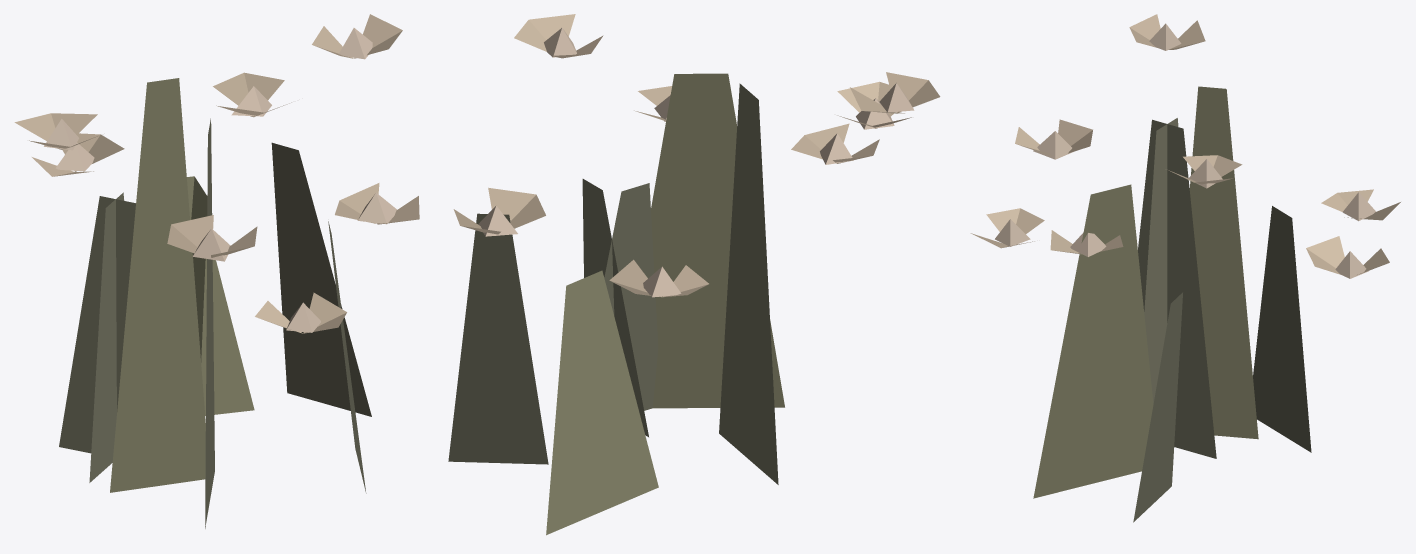
Rendered from cao.yangmao@flowering__winter.glb.
3 renders of one model, left to right at view 1: azimuth 30°, elevation 25°; view 2: azimuth 150°, elevation 25°; view 3: azimuth 270°, elevation 25°, orthographic. The views are drawn at different scales.
Parts seen in each view (by area): view 1: cao.yangmao@flowering__winter; view 2: cao.yangmao@flowering__winter; view 3: cao.yangmao@flowering__winter.
Part boxes in pixels (x1=…): cao.yangmao@flowering__winter: x1=14, y1=14, x2=419, y2=528; cao.yangmao@flowering__winter: x1=448, y1=14, x2=940, y2=535; cao.yangmao@flowering__winter: x1=970, y1=14, x2=1400, y2=522.
Size of the model in its own units: 0.6035 by 0.5808 by 0.6335.
